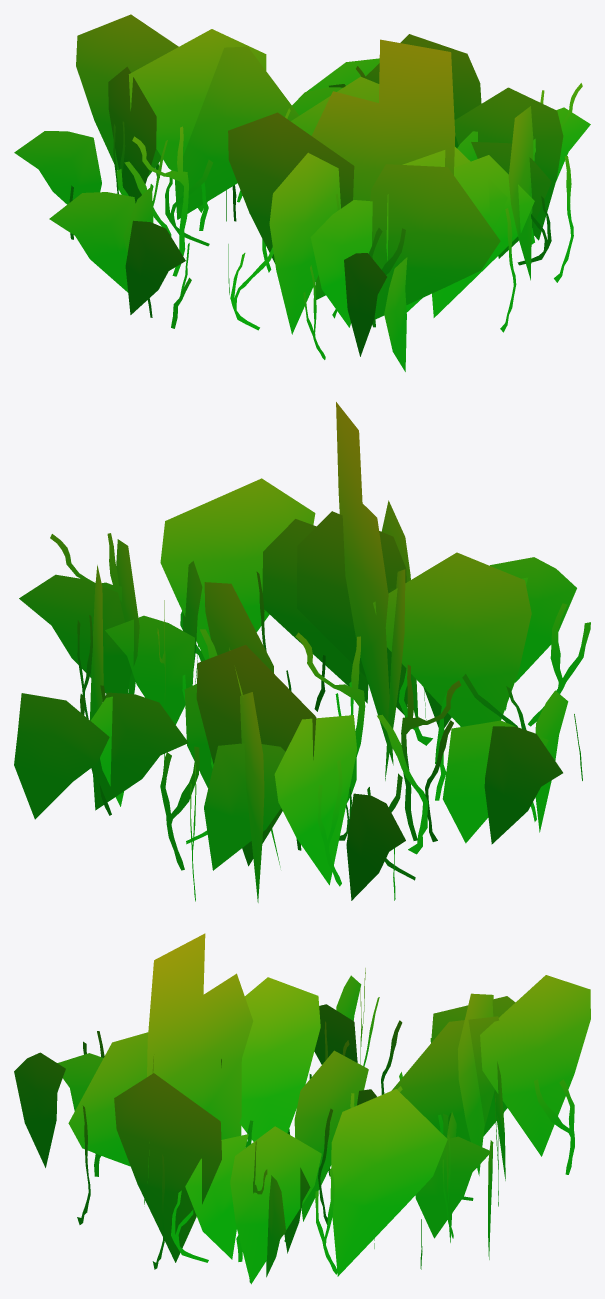
Rendered from Lingonberry_LOD4_Var12.fbx.
3 views of the same model, one above another, from view 1: azimuth 30°, elevation 25°; view 2: azimuth 150°, elevation 25°; view 3: azimuth 270°, elevation 25° (orthographic). The views are drawn at different scales.
Parts seen in each view (by area): view 1: _32tf_Var12_LOD4; view 2: _32tf_Var12_LOD4; view 3: _32tf_Var12_LOD4.
Part boxes in pixels (<box>): _32tf_Var12_LOD4: <box>14,14,590,371</box>; _32tf_Var12_LOD4: <box>14,402,590,902</box>; _32tf_Var12_LOD4: <box>14,933,590,1284</box>.
Size of the model in its own units: 50.61 by 26.03 by 50.07.
